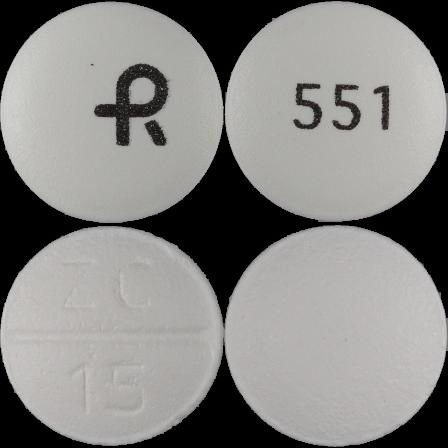63739-800: (0, 0, 224, 224)
